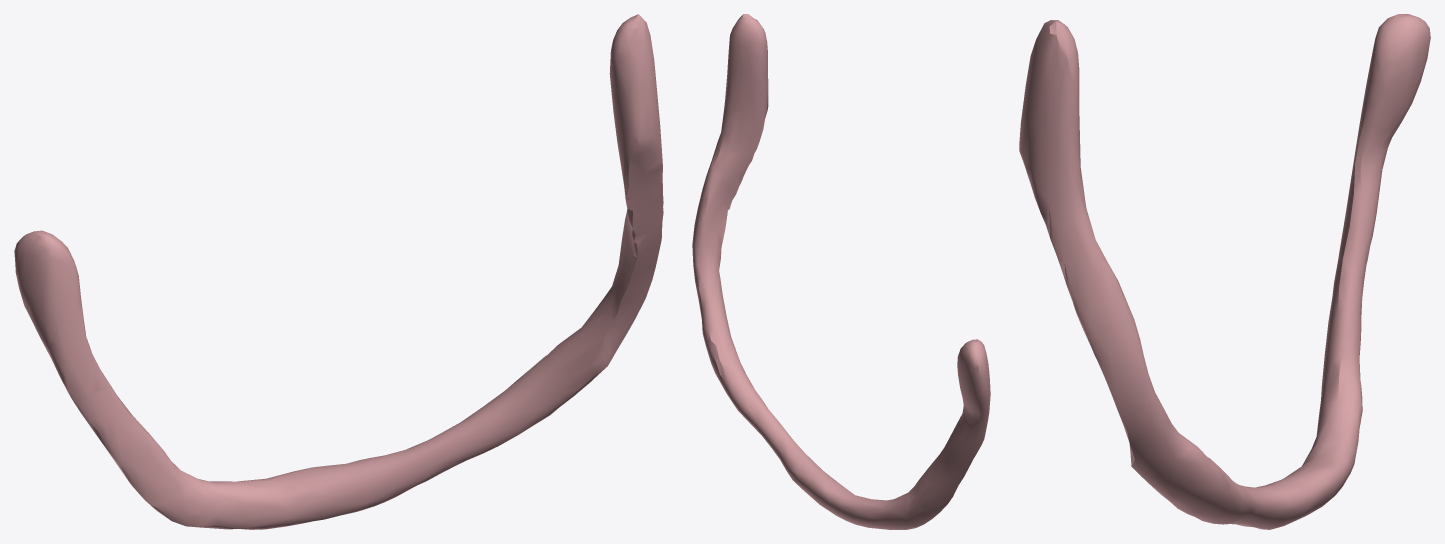
Rendered from fma84625_mm602.glb.
3 views of the same model, side by side, from view 1: azimuth 30°, elevation 25°; view 2: azimuth 150°, elevation 25°; view 3: azimuth 270°, elevation 25° (orthographic). The views are drawn at different scales.
Parts seen in each view (by area): view 1: FMA84625_MM602; view 2: FMA84625_MM602; view 3: FMA84625_MM602.
Part boxes in pixels (<box>): FMA84625_MM602: <box>14,14,663,529</box>; FMA84625_MM602: <box>692,14,990,529</box>; FMA84625_MM602: <box>1019,14,1430,529</box>.
Bounding box in the file's own units: 0.0187 × 0.0186 × 0.0111.
